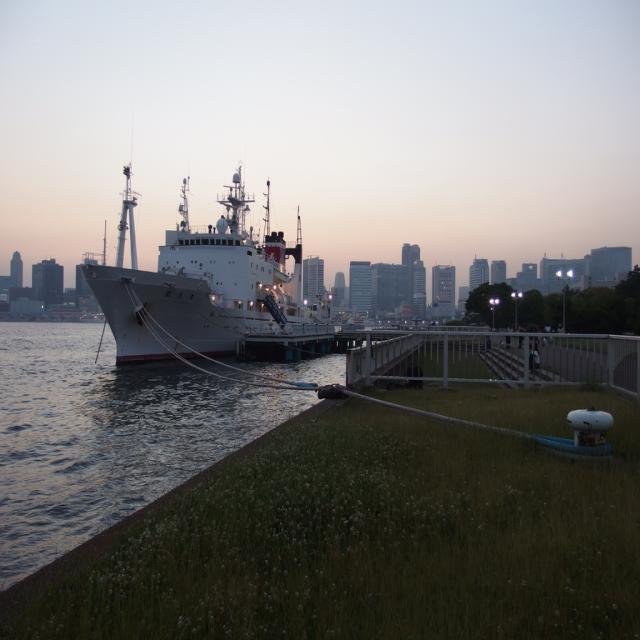Boat: (89, 145, 371, 360)
